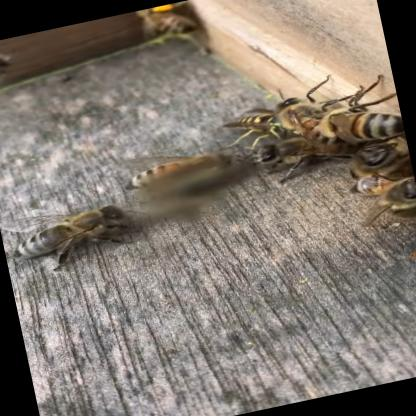bee: (183, 46, 416, 275), (0, 128, 253, 300), (102, 0, 231, 55), (0, 36, 76, 110), (34, 192, 36, 198)
